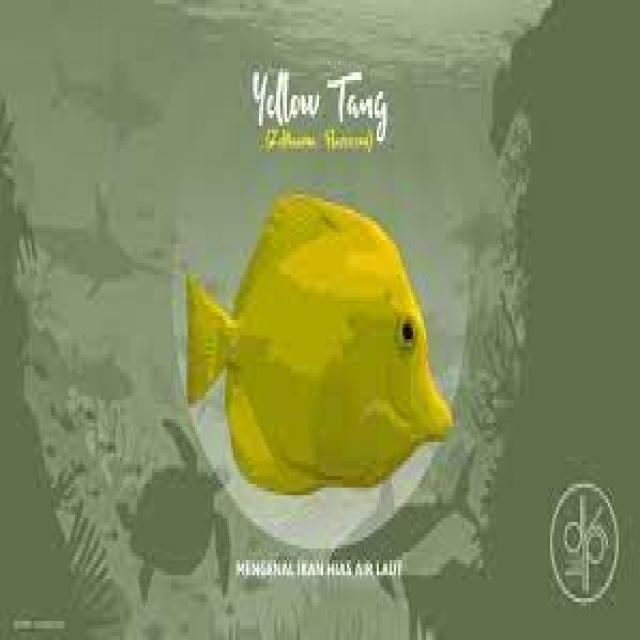YellowTang: (169, 177, 487, 530)
